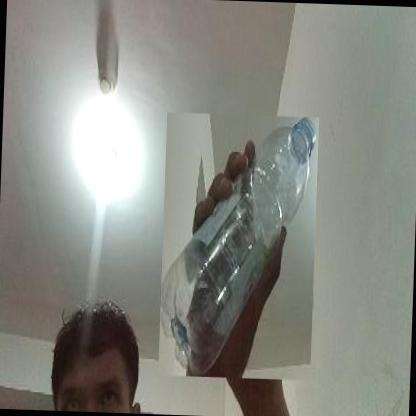plastic_bottles: (161, 117, 318, 377)
